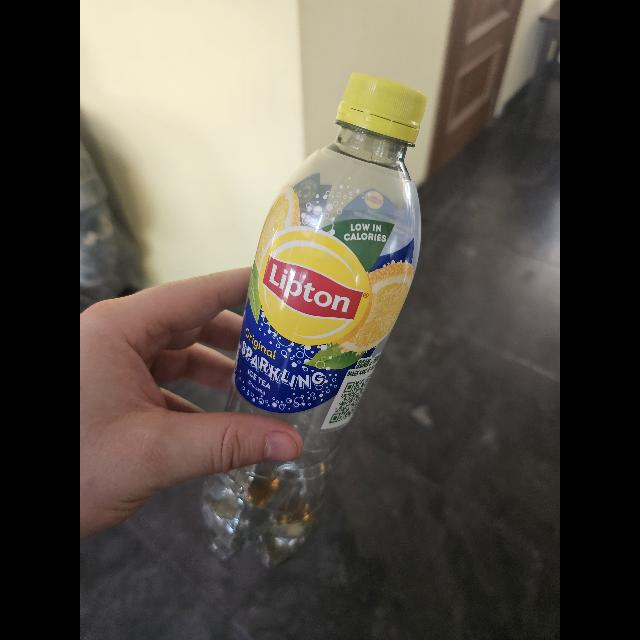Plastic: (190, 69, 430, 571)
